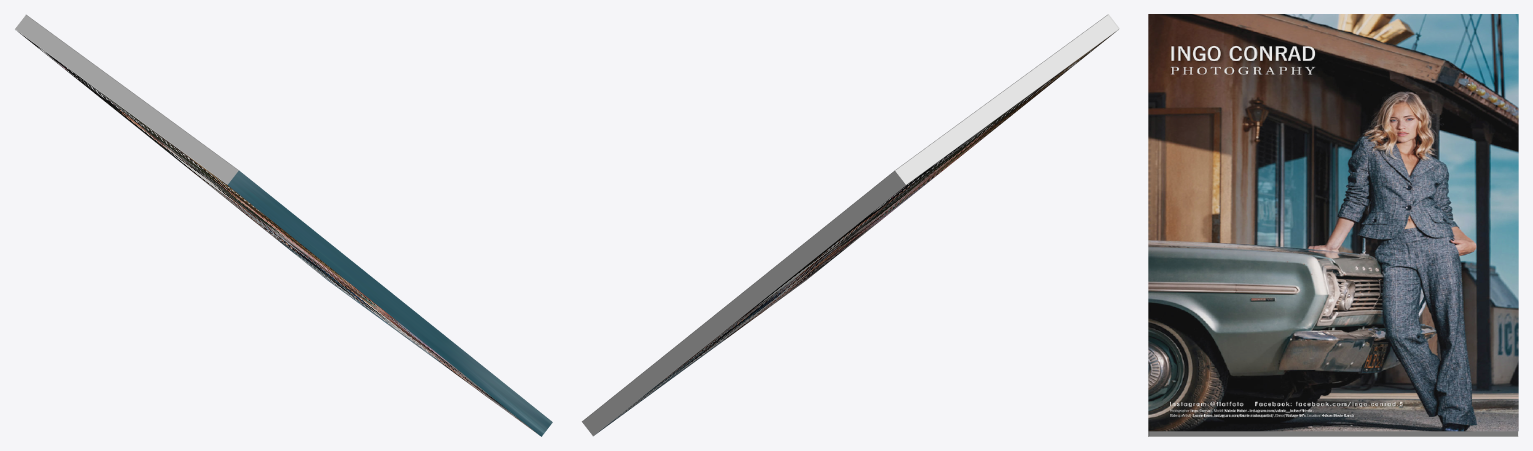
Rendered from matte-size3-magazine.glb.
3 views of the same model, side by side, from view 1: azimuth 30°, elevation 25°; view 2: azimuth 150°, elevation 25°; view 3: azimuth 270°, elevation 25° (orthographic). The views are drawn at different scales.
Parts seen in each view (by area): view 1: Cube; view 2: Cube; view 3: Cube.
Boxes of the visible parts, bbox=[...] form: Cube: bbox=[15, 14, 552, 436]; Cube: bbox=[582, 14, 1119, 436]; Cube: bbox=[1148, 14, 1518, 436].
Size of the model in its own units: 0.2234 by 0.2234 by 0.254.
Materials: 2 (1 with a texture image).
